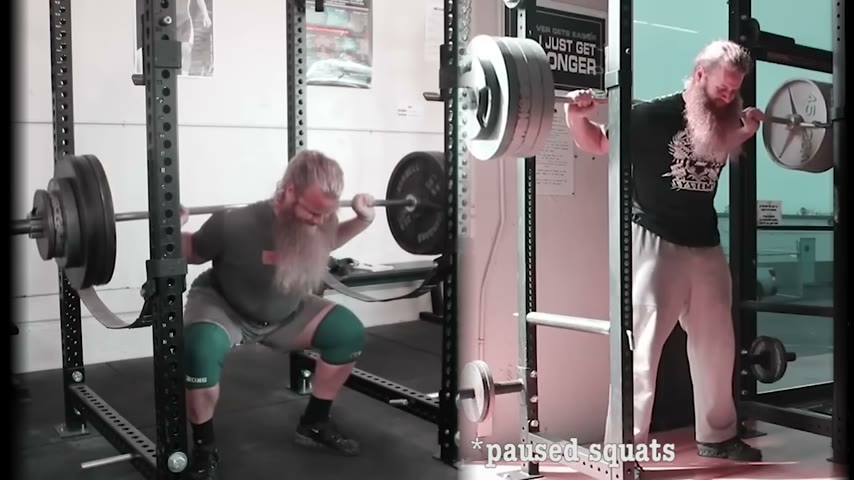barbell_plate_side: (6, 147, 126, 305)
